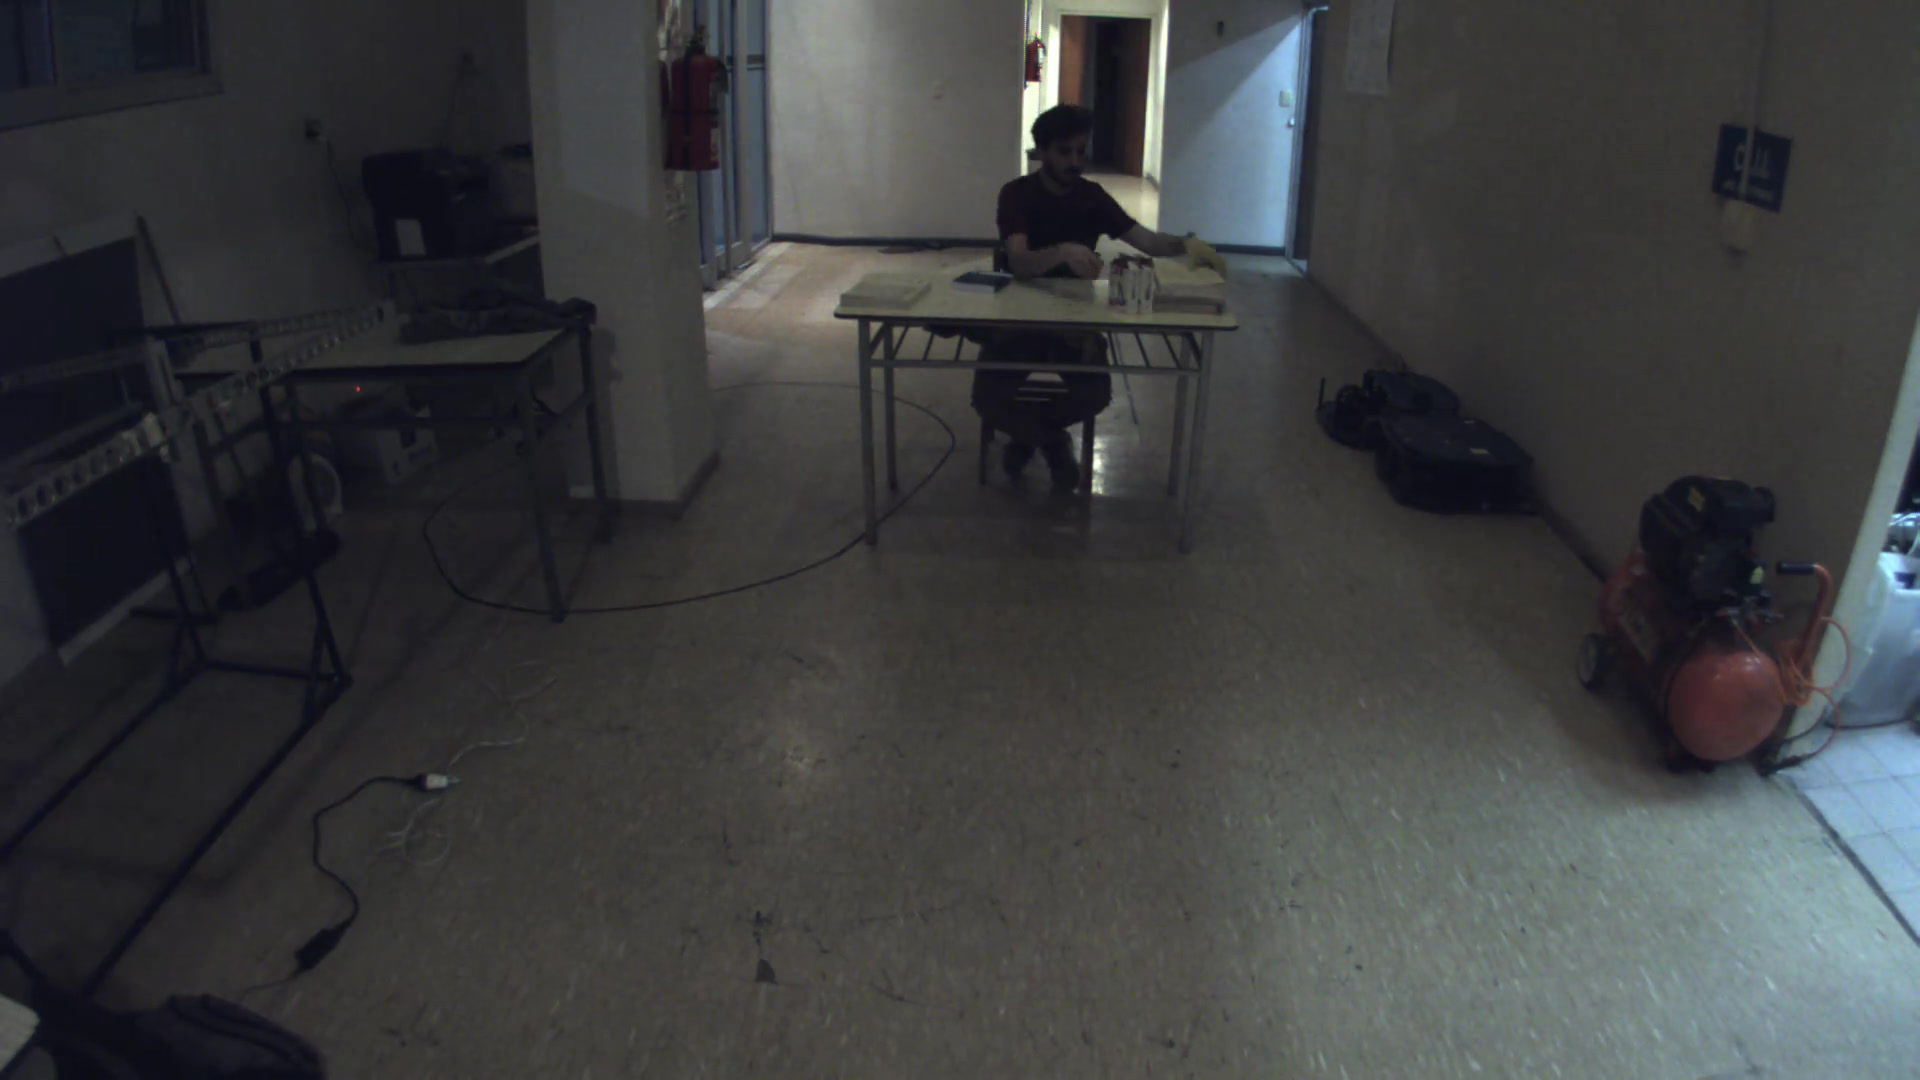hand: (1176, 229, 1233, 282), (1055, 239, 1102, 282)
